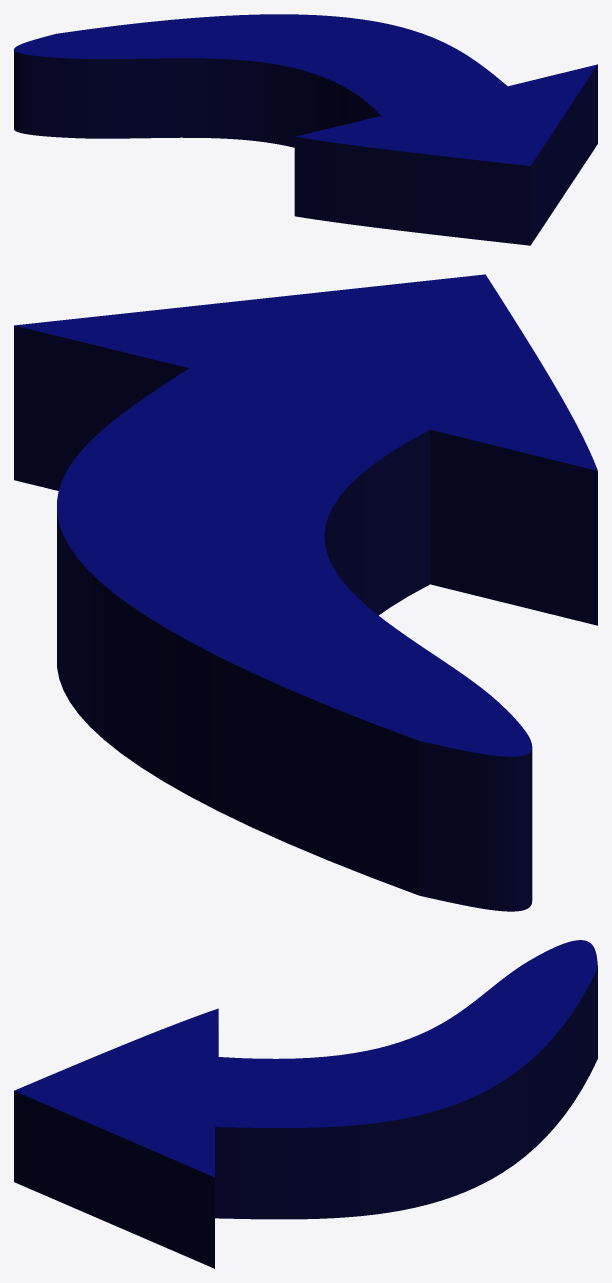
The model's file is Turn arrow.FBX.
3 views of the same model, one above another, from view 1: azimuth 30°, elevation 25°; view 2: azimuth 150°, elevation 25°; view 3: azimuth 270°, elevation 25° (orthographic). The views are drawn at different scales.
Visible parts, largest first — view 1: Line002; view 2: Line002; view 3: Line002.
Boxes of the visible parts, left/top/right/bottom form: Line002: left=14, top=14, right=597, bottom=245; Line002: left=14, top=274, right=597, bottom=911; Line002: left=14, top=940, right=597, bottom=1268.
Size of the model in its own units: 16.72 by 3 by 17.38.
